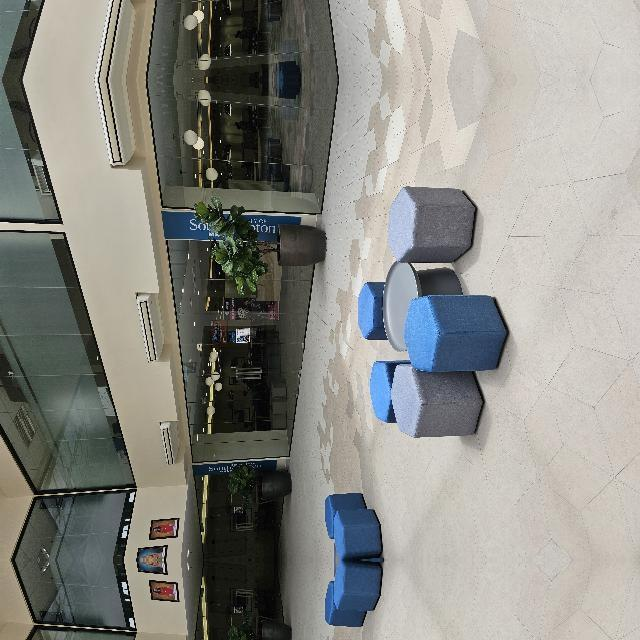obstacle: (108, 434, 386, 584), (108, 536, 385, 640), (276, 290, 350, 404), (0, 401, 70, 457)
